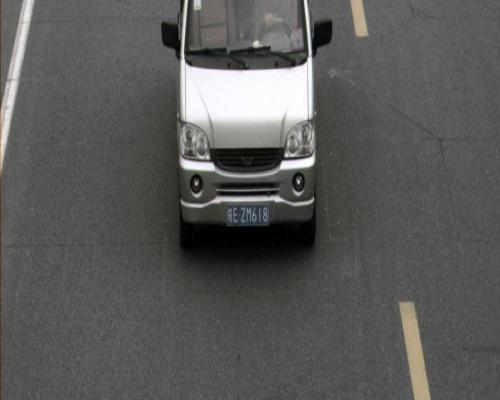Carplate: (224, 199, 272, 233)
